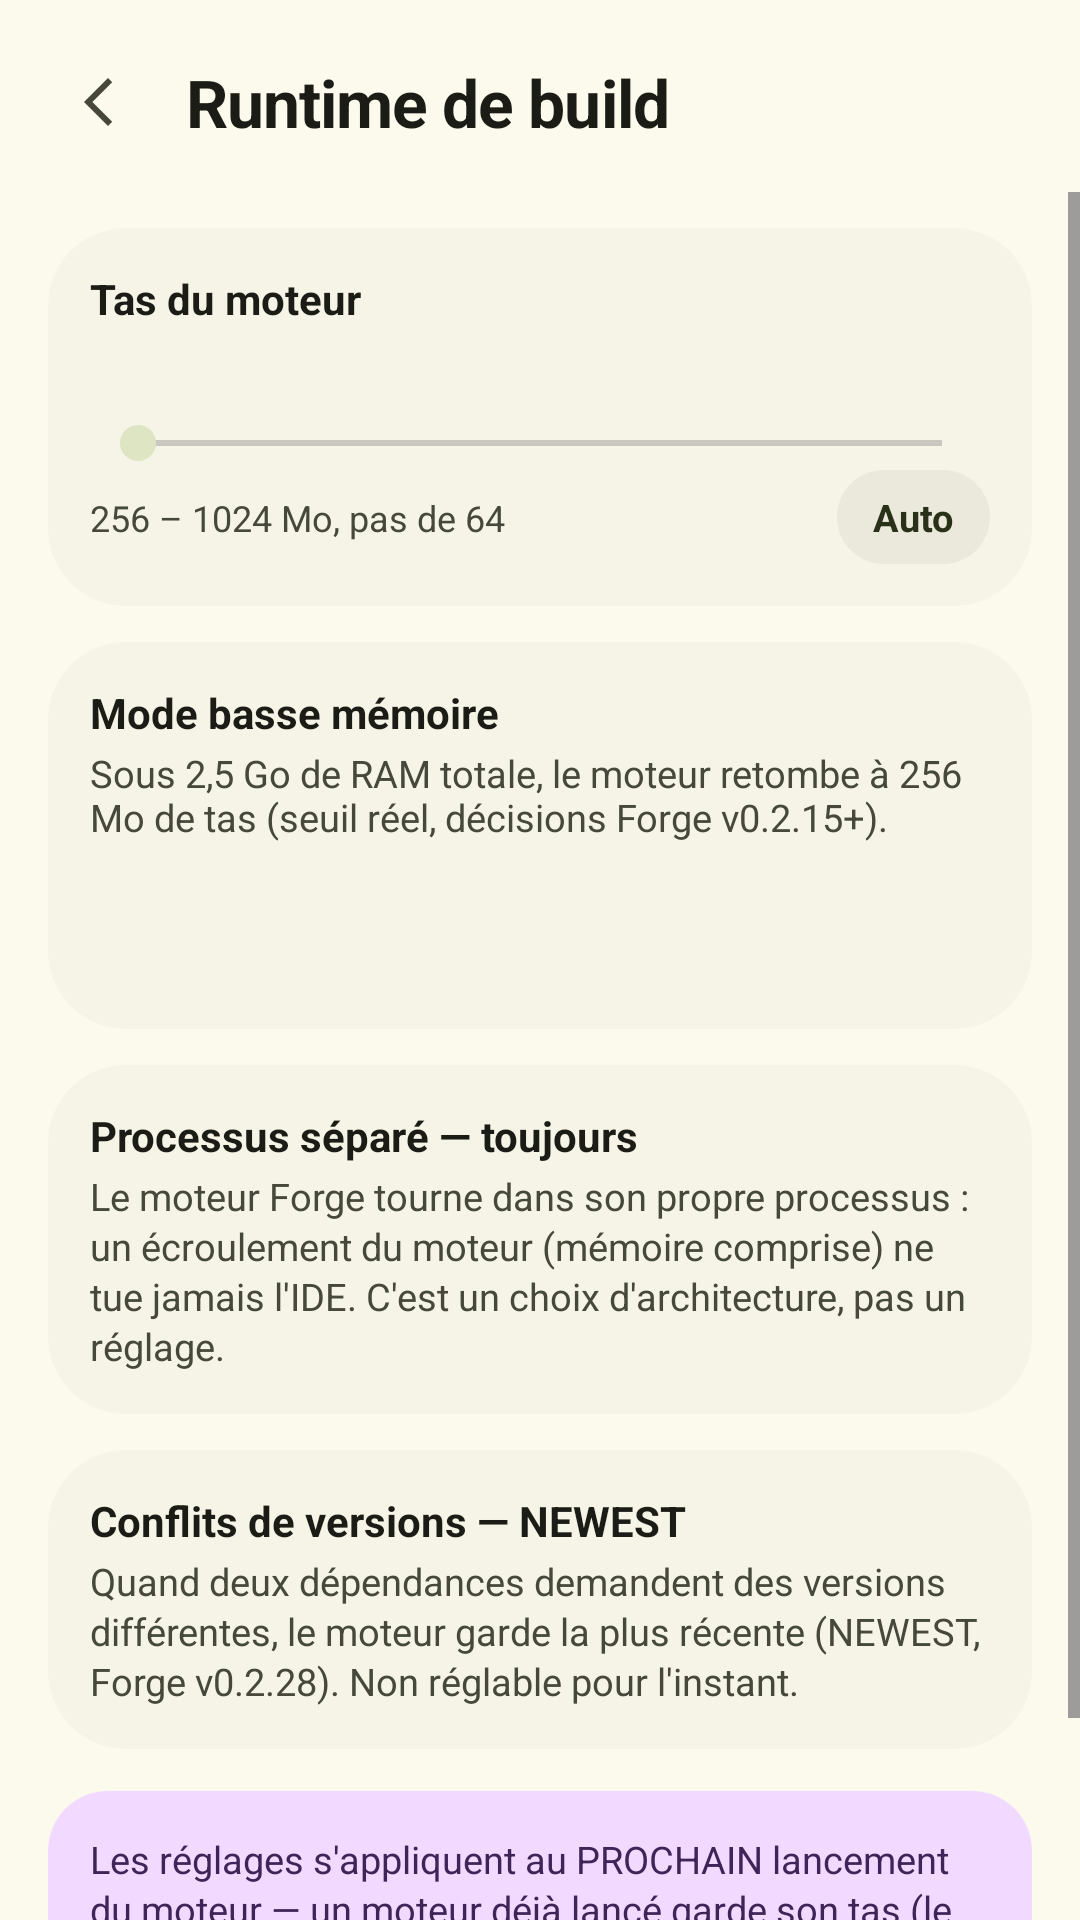

Where to tap for icons on this 1080×1920 app screen, as point (x, y):
Retour: point (98, 102)
